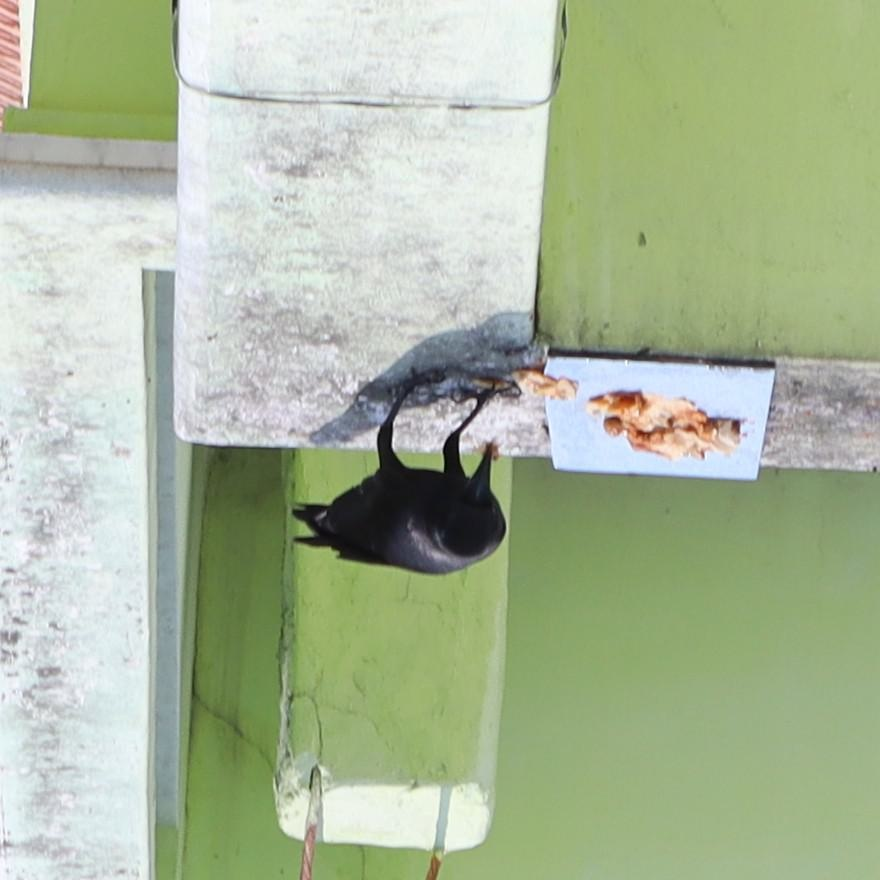crow: (301, 375, 521, 592)
